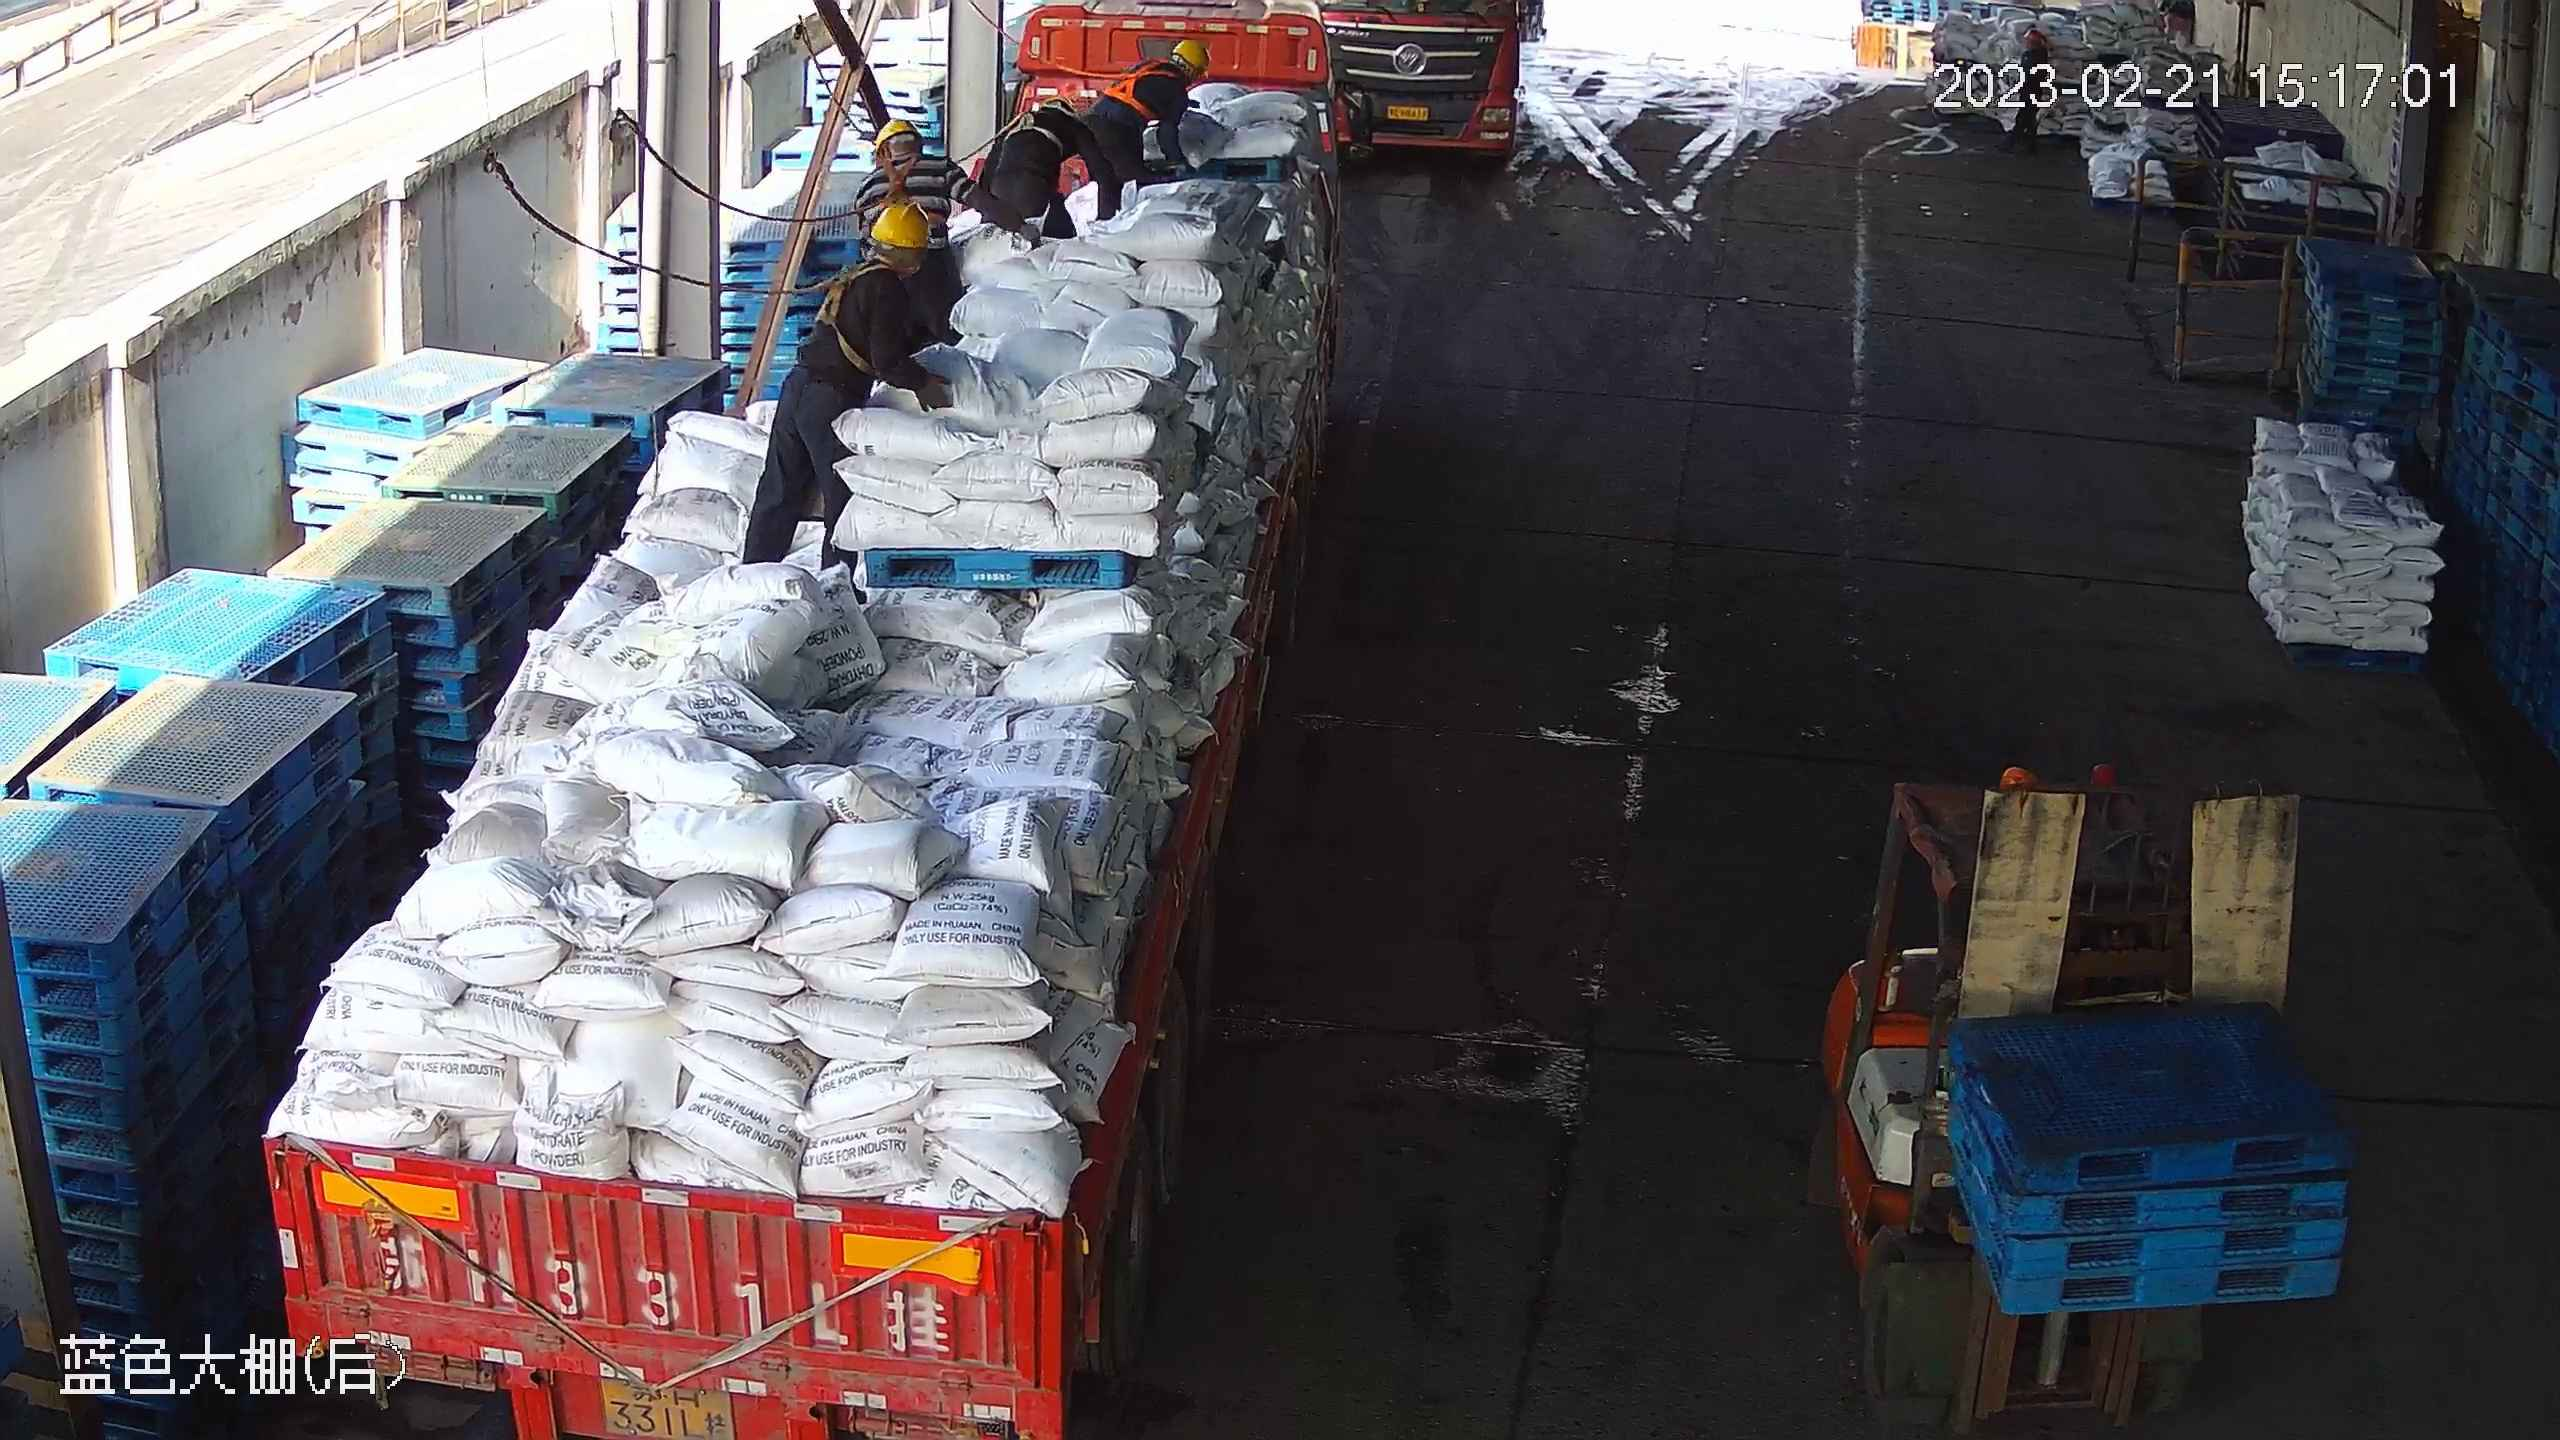belt: (813, 255, 894, 379), (1100, 56, 1179, 122), (998, 110, 1064, 151), (880, 156, 922, 204)
head: (825, 202, 932, 312), (856, 119, 950, 196), (1137, 37, 1210, 103)
helmet: (870, 201, 931, 251), (874, 119, 924, 156), (1171, 38, 1209, 74)
people: (742, 200, 955, 607), (980, 94, 1116, 238), (1080, 37, 1209, 187)
truck: (259, 3, 1378, 1438), (1318, 1, 1522, 162)
